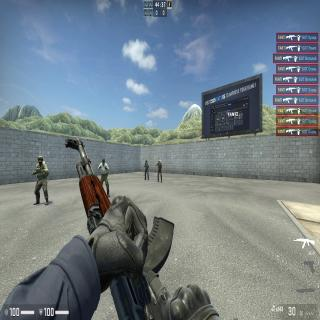CT-Body: (35, 156, 47, 204), (145, 160, 148, 180)
CT-Head: (38, 156, 42, 166), (146, 159, 147, 163)
T-Body: (101, 158, 107, 187), (158, 160, 161, 180)
T-Head: (102, 158, 105, 166), (159, 160, 160, 164)
